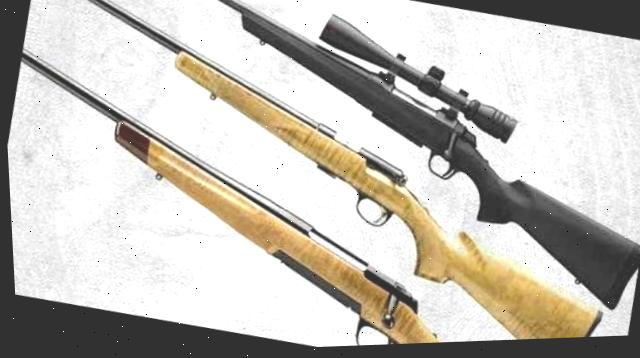rifle: (0, 0, 640, 358), (1, 1, 537, 358), (62, 0, 640, 324)
